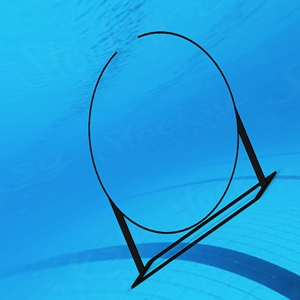circle: (82, 28, 282, 293)
